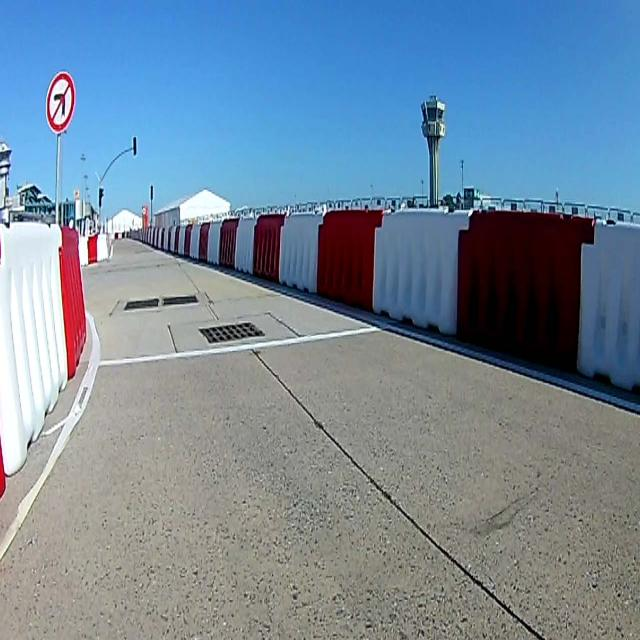soladonulmez: (47, 71, 75, 132)
